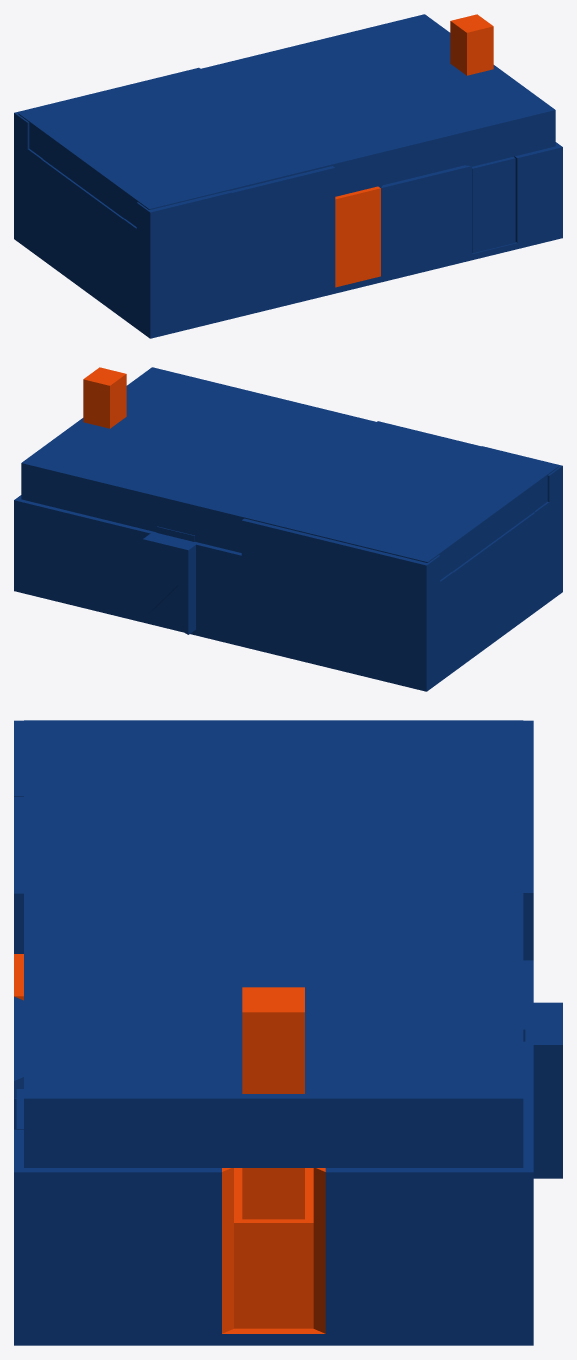
Rendered from simu_ferme.fbx.
The picture shows the model from 3 angles, top to bottom: view 1: azimuth 30°, elevation 25°; view 2: azimuth 150°, elevation 25°; view 3: azimuth 270°, elevation 25°; orthographic projection. The views are drawn at different scales.
Visible parts, largest first — view 1: Box001; view 2: Box001; view 3: Box001.
Part boxes in pixels (x1,y1,x2,y2): Box001: [14, 14, 562, 338]; Box001: [14, 367, 562, 691]; Box001: [14, 720, 562, 1345].
Bounding box in the file's own units: 246 × 96.98 × 149.
